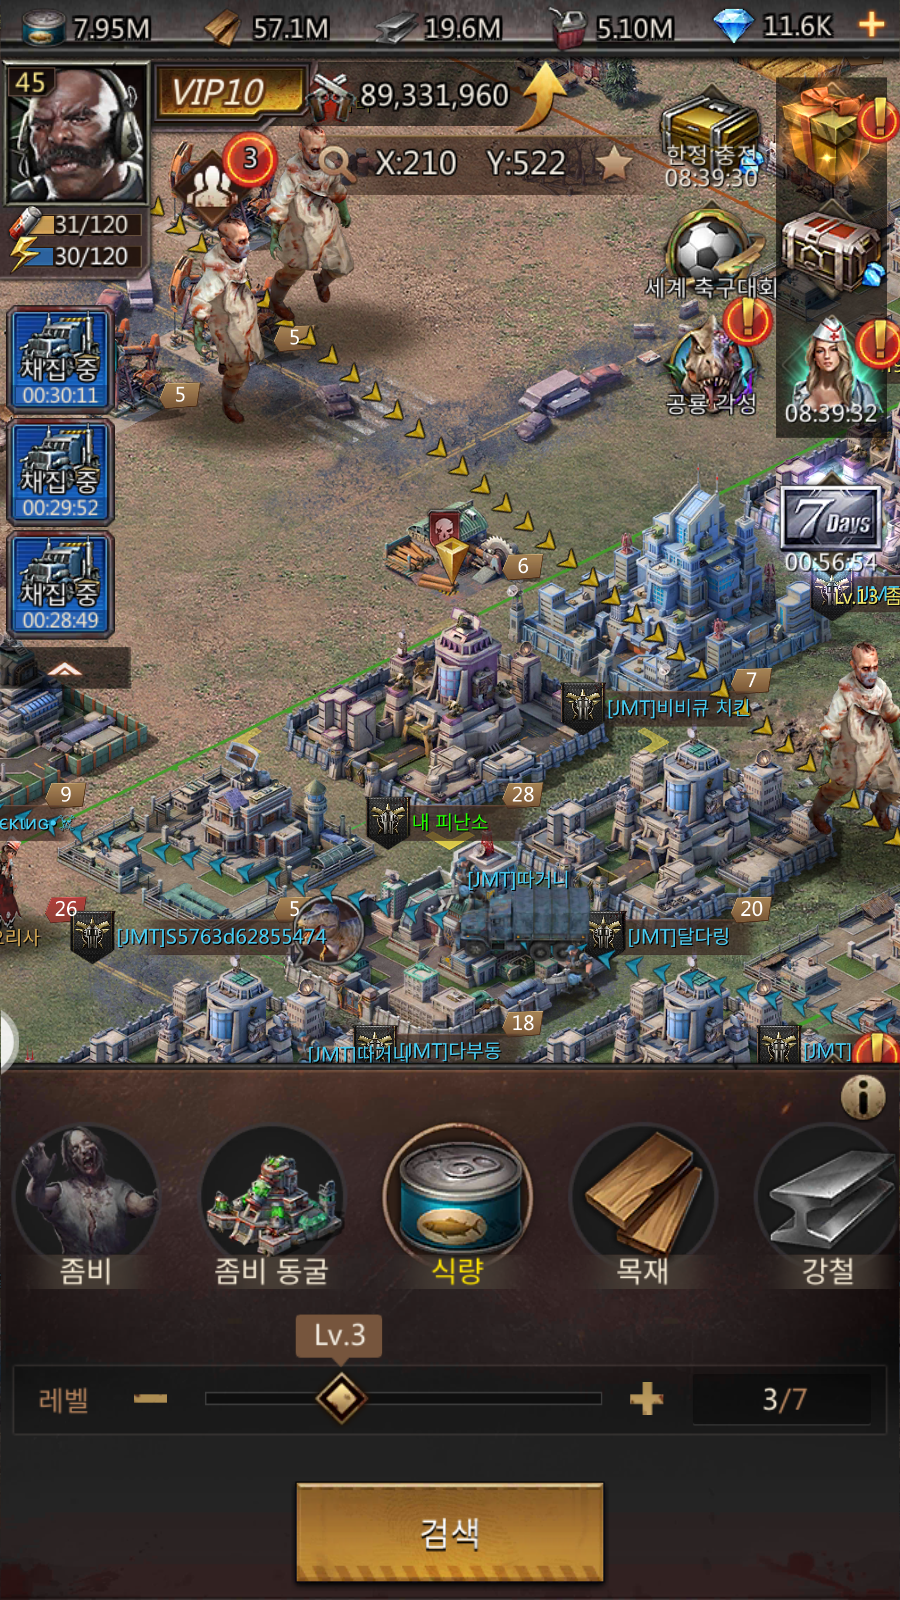rss_food_in_panel: (378, 1118, 538, 1293)
rss_lv3: (296, 1315, 384, 1356)
rss_minus_in_panel: (122, 1371, 184, 1422)
rss_plus_in_panel: (620, 1365, 675, 1427)
rss_search_in_panel: (296, 1482, 607, 1582)
rss_steel_in_panel: (751, 1118, 900, 1292)
rss_wood_in_panel: (569, 1122, 722, 1293)
troops_cnt_3: (164, 125, 289, 242)
